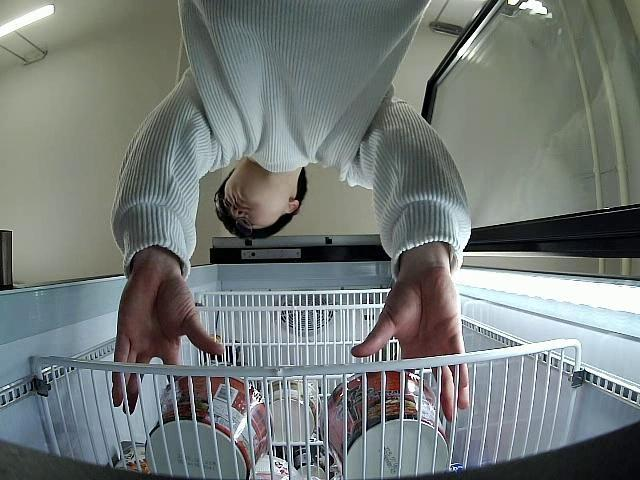01_ShinRamen_L: (320, 370, 450, 480), (142, 377, 274, 480)
